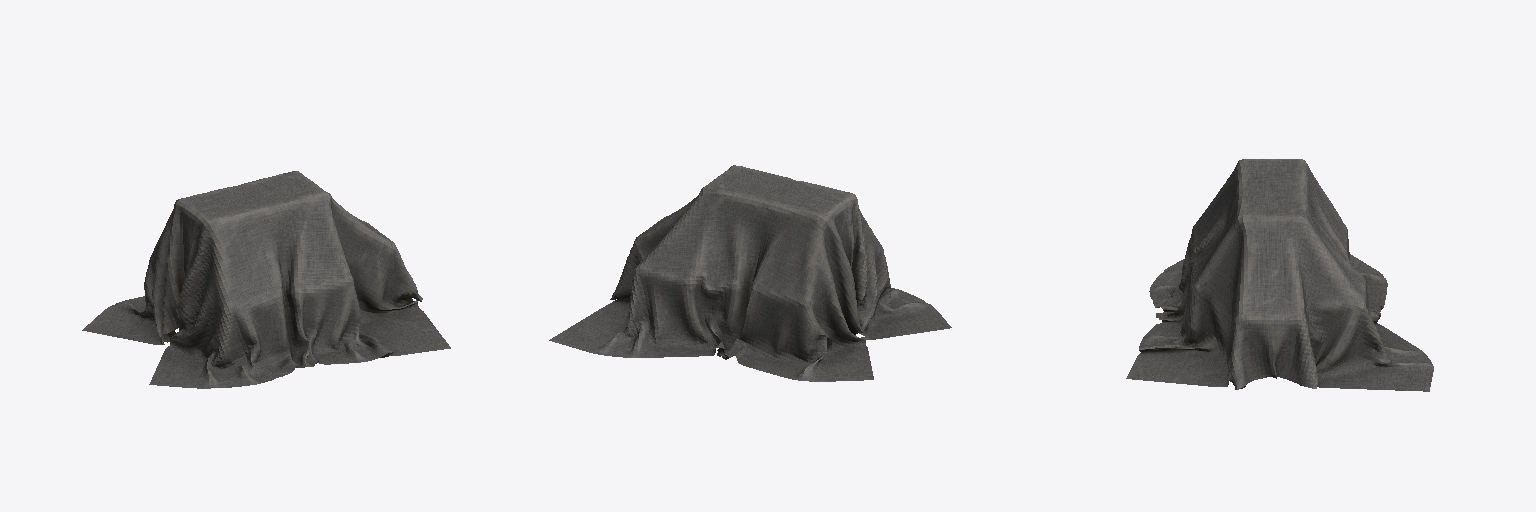
The picture shows the model from 3 angles: view 1: azimuth 30°, elevation 25°; view 2: azimuth 150°, elevation 25°; view 3: azimuth 270°, elevation 25°; orthographic projection.
Parts seen in each view (by area): view 1: Plane__0; view 2: Plane__0; view 3: Plane__0.
Part boxes in pixels (x1,y1,x2,y2): Plane__0: (82,171,450,388); Plane__0: (549,165,951,381); Plane__0: (1126,159,1433,391).
Size of the model in its own units: 4.83 by 2.07 by 4.42.
1 materials, 1 textured.